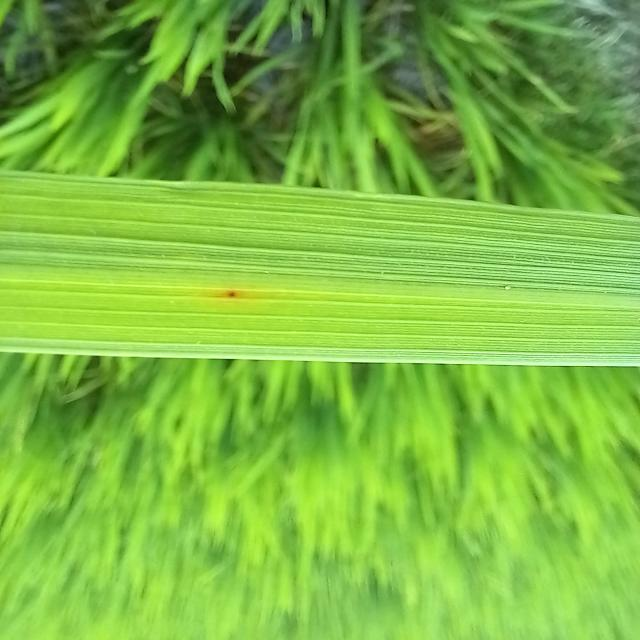Brown_Spot: (217, 284, 252, 305)
